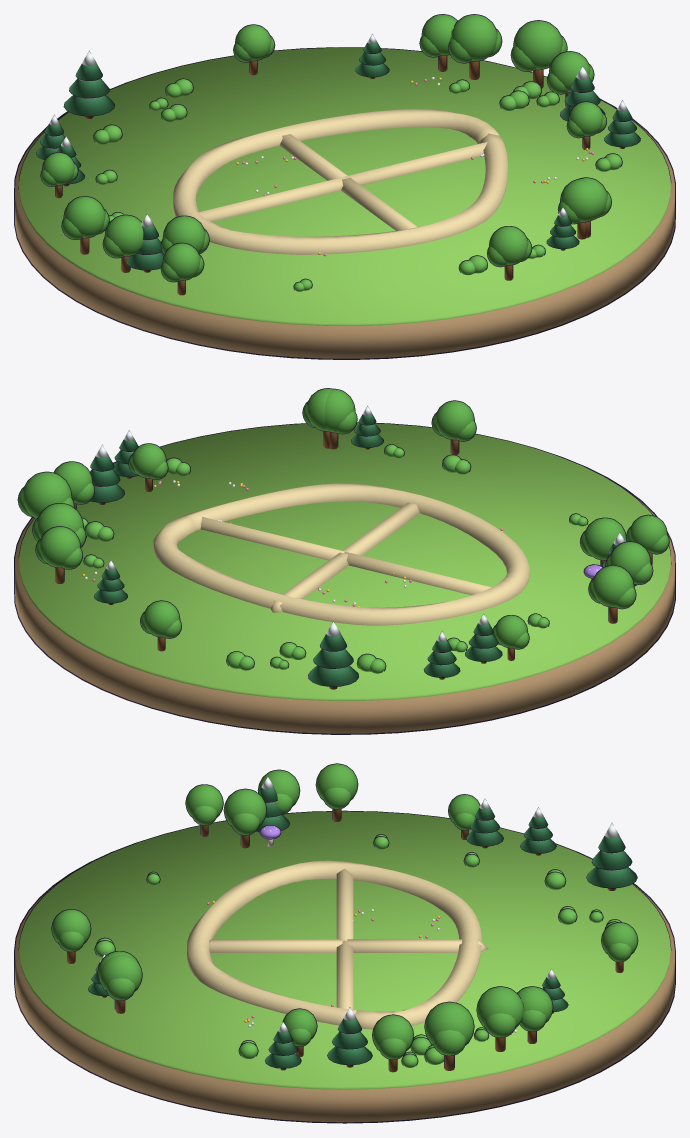
The model's file is ground.glb.
3 renders of one model, top to bottom at view 1: azimuth 30°, elevation 25°; view 2: azimuth 150°, elevation 25°; view 3: azimuth 270°, elevation 25°, orthographic.
Parts seen in each view (by area): view 1: grass, cliff, path, spoke.002, spoke, crown.012, crown.006, spoke.003, crown.036, crown.009, crown.024, crown.039 (+11 smaller); view 2: grass, cliff, path, spoke, spoke.002, crown.012, spoke.003, crown.036, crown.033, spoke.001, crown.027, crown.039 (+11 smaller); view 3: grass, cliff, path, spoke.003, spoke.001, crown.012, crown.006, spoke.002, spoke, crown.027, crown.036, crown.021 (+14 smaller).
Boxes of the visible parts, x1=… form: grass: x1=18, y1=47, x2=671, y2=325; cliff: x1=14, y1=82, x2=675, y2=359; path: x1=173, y1=109, x2=507, y2=254; spoke.002: x1=198, y1=176, x2=345, y2=221; spoke: x1=345, y1=142, x2=487, y2=185; crown.012: x1=513, y1=20, x2=563, y2=70; crown.006: x1=450, y1=14, x2=497, y2=61; spoke.003: x1=341, y1=177, x2=416, y2=230; crown.036: x1=63, y1=196, x2=105, y2=238; crown.009: x1=104, y1=214, x2=143, y2=256; crown.024: x1=560, y1=178, x2=598, y2=222; crown.039: x1=489, y1=226, x2=528, y2=265; grass: x1=18, y1=422, x2=671, y2=700; cliff: x1=14, y1=456, x2=675, y2=734; path: x1=153, y1=483, x2=529, y2=625; spoke: x1=200, y1=516, x2=344, y2=560; spoke.002: x1=344, y1=551, x2=490, y2=595; crown.012: x1=22, y1=471, x2=72, y2=518; spoke.003: x1=342, y1=502, x2=419, y2=555; crown.036: x1=592, y1=565, x2=634, y2=607; crown.033: x1=39, y1=526, x2=80, y2=567; spoke.001: x1=270, y1=552, x2=348, y2=612; crown.027: x1=583, y1=517, x2=626, y2=560; crown.039: x1=435, y1=400, x2=474, y2=440; grass: x1=18, y1=810, x2=671, y2=1089; cliff: x1=14, y1=843, x2=675, y2=1123; path: x1=187, y1=860, x2=481, y2=1029; spoke.003: x1=209, y1=939, x2=342, y2=952; spoke.001: x1=347, y1=939, x2=488, y2=952; crown.012: x1=424, y1=1001, x2=474, y2=1045; crown.006: x1=476, y1=986, x2=523, y2=1027; spoke.002: x1=336, y1=868, x2=353, y2=940; spoke: x1=336, y1=940, x2=353, y2=1009; crown.027: x1=223, y1=788, x2=266, y2=826; crown.036: x1=315, y1=763, x2=358, y2=800; crown.021: x1=98, y1=955, x2=142, y2=991.
Size of the model in its own units: 31.09 by 5.28 by 31.09.
